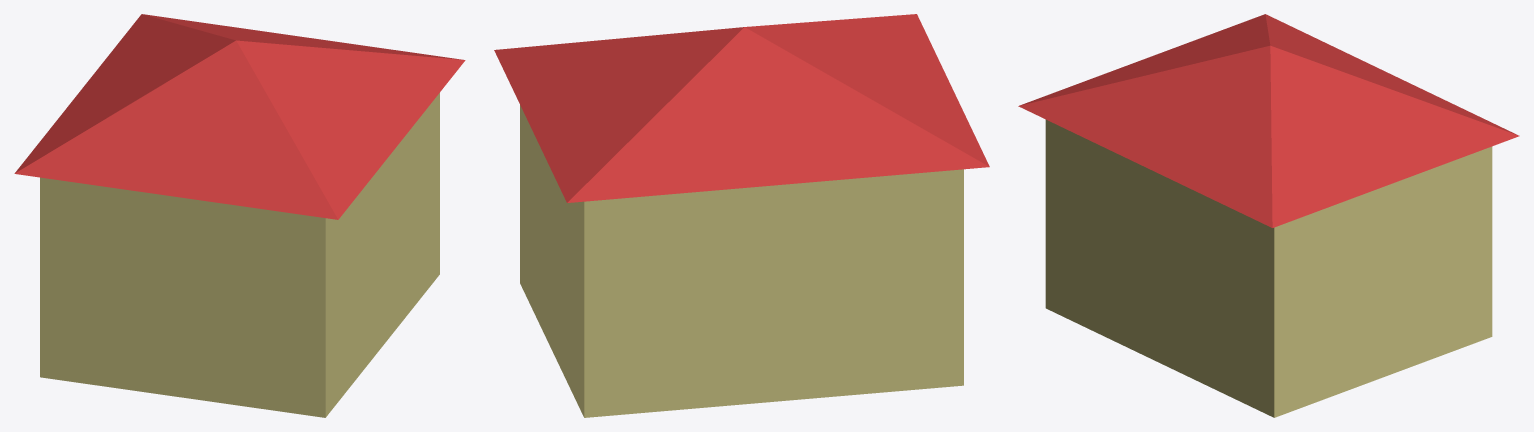
3 views of the same model, side by side, from view 1: azimuth 30°, elevation 25°; view 2: azimuth 150°, elevation 25°; view 3: azimuth 270°, elevation 25° (orthographic). The views are drawn at different scales.
Visible parts, largest first — view 1: group_5, group_3, group_4; view 2: group_5, group_3, group_4; view 3: group_5, group_3, group_4.
Boxes of the visible parts, x1,y1,x2,y2 form: group_5: (40, 93, 439, 417); group_3: (14, 14, 465, 219); group_4: (15, 14, 351, 219); group_5: (520, 105, 963, 417); group_3: (494, 14, 989, 202); group_4: (556, 15, 989, 202); group_5: (1045, 119, 1492, 417); group_3: (1019, 14, 1518, 227); group_4: (1018, 14, 1519, 163).
Bounding box in the file's own units: 19.39 × 19.2 × 11.63.
